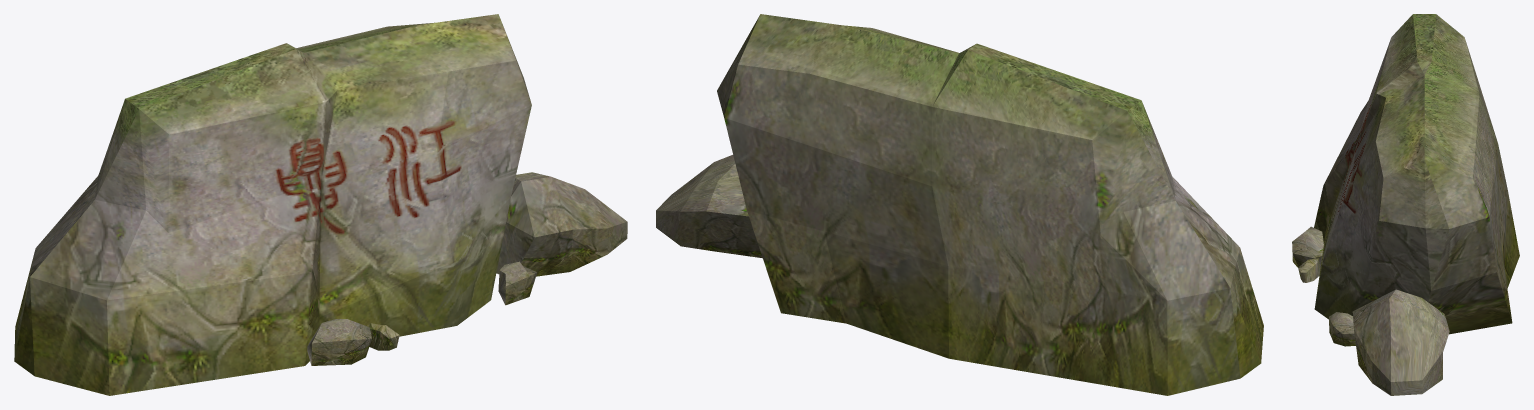
Rendered from jiangxia_dw_80.FBX.
3 renders of one model, left to right at view 1: azimuth 30°, elevation 25°; view 2: azimuth 150°, elevation 25°; view 3: azimuth 270°, elevation 25°, orthographic. The views are drawn at different scales.
Parts seen in each view (by area): view 1: jiangxia_dw_80; view 2: jiangxia_dw_80; view 3: jiangxia_dw_80.
Part boxes in pixels (x1=…): jiangxia_dw_80: x1=14, y1=14, x2=627, y2=395; jiangxia_dw_80: x1=656, y1=14, x2=1263, y2=395; jiangxia_dw_80: x1=1292, y1=14, x2=1519, y2=395.
Size of what is drawn, in the model's own units: 807 by 336 by 333.
